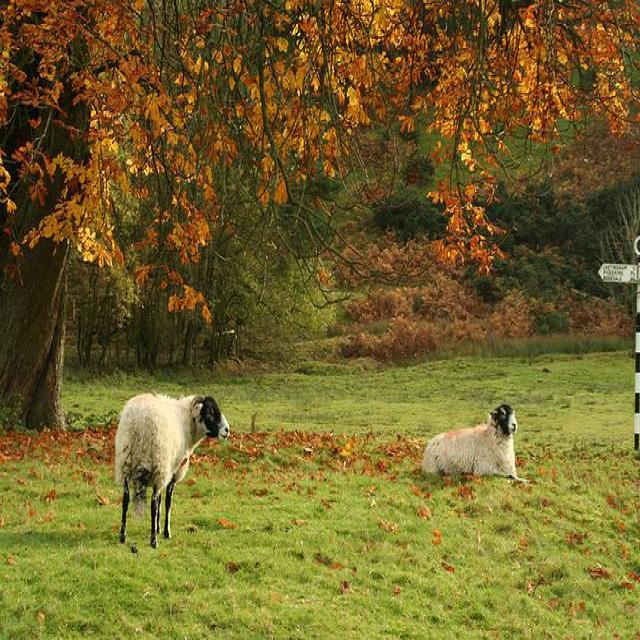Sheep: (115, 394, 233, 552), (422, 405, 531, 484)
